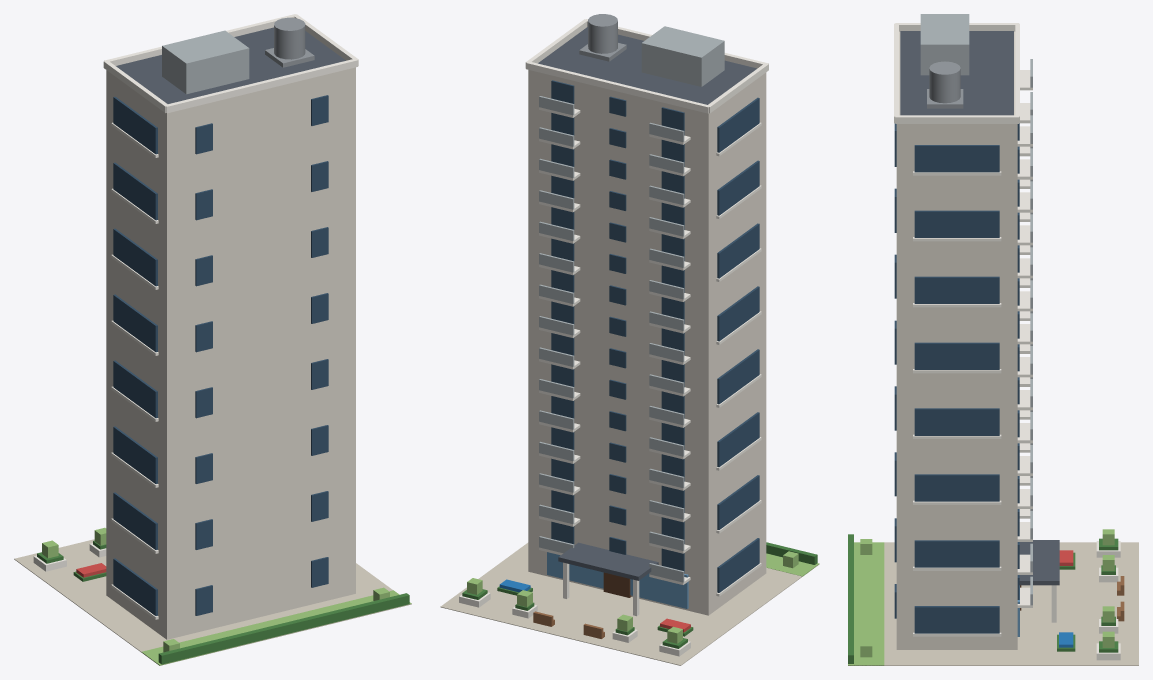
3 views of the same model, side by side, from view 1: azimuth 30°, elevation 25°; view 2: azimuth 150°, elevation 25°; view 3: azimuth 270°, elevation 25° (orthographic). The views are drawn at different scales.
Visible parts, largest first — view 1: tower, window_band (×8), plaza, roof, plant_room, parapet (×3), hedge, lawn, water_tank; view 2: tower, plaza, window_band (×8), roof, plant_room, parapet (×4), storefront, canopy, water_tank, door, lawn; view 3: tower, window_band (×8), plaza, roof, lawn, plant_room, parapet (×4), canopy, water_tank, hedge.
Boxes of the visible parts, bbox=[...] form: tower: bbox=[106, 67, 355, 639]; window_band (×8): bbox=[113, 96, 157, 615]; plaza: bbox=[14, 539, 411, 664]; roof: bbox=[116, 27, 345, 103]; plant_room: bbox=[162, 30, 249, 94]; parapet (×3): bbox=[103, 14, 358, 113]; hedge: bbox=[158, 593, 409, 664]; lawn: bbox=[142, 590, 411, 665]; water_tank: bbox=[274, 17, 305, 59]; tower: bbox=[528, 70, 766, 615]; plaza: bbox=[440, 542, 818, 665]; window_band (×8): bbox=[717, 97, 759, 592]; roof: bbox=[538, 27, 756, 104]; plant_room: bbox=[641, 26, 724, 86]; parapet (×4): bbox=[525, 19, 768, 113]; storefront: bbox=[547, 552, 688, 608]; canopy: bbox=[558, 542, 658, 580]; water_tank: bbox=[588, 14, 617, 53]; door: bbox=[603, 572, 631, 597]; lawn: bbox=[766, 553, 819, 576]; tower: bbox=[896, 31, 1017, 649]; window_band (×8): bbox=[914, 145, 999, 633]; plaza: bbox=[849, 542, 1138, 665]; roof: bbox=[900, 31, 1013, 115]; lawn: bbox=[848, 542, 884, 665]; plant_room: bbox=[920, 14, 969, 75]; parapet (×4): bbox=[894, 23, 1019, 123]; canopy: bbox=[1019, 540, 1059, 585]; water_tank: bbox=[929, 61, 960, 103]; hedge: bbox=[848, 534, 853, 663].
Bounding box in the file's own units: 24 × 51.17 × 24.
